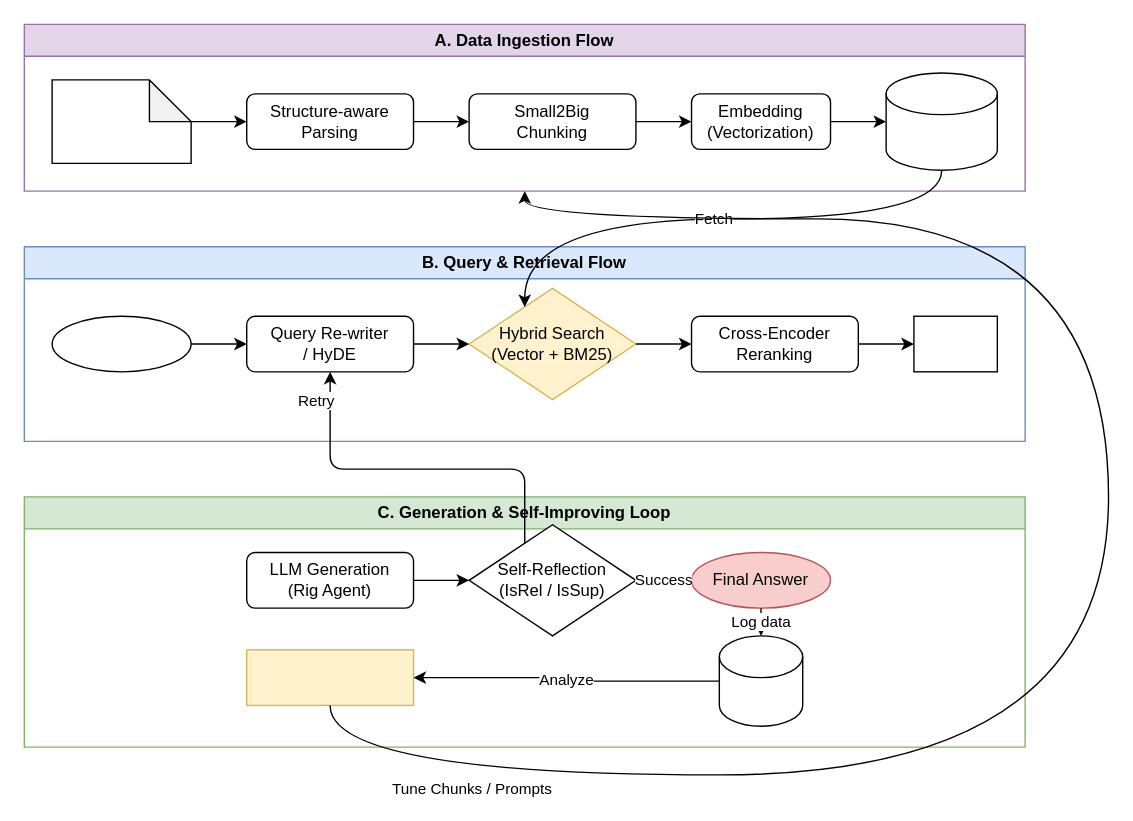
Image size: 1133x821. Some labels were removed from this diagram. Here are the shapes that lost their labels. From the top down, the centre of each, then its label:
At point 121,121: "Source Docs (Markdown/PDF)".
At point 941,121: "Vector Store (PostgreSQL)".
At point 121,343: "User Query".
At point 955,343: "Context".
At point 329,676: "RAGAS Auto-Eval (Offline Loop)".
At point 760,680: "Feedback DB (Logs & Scores)".
